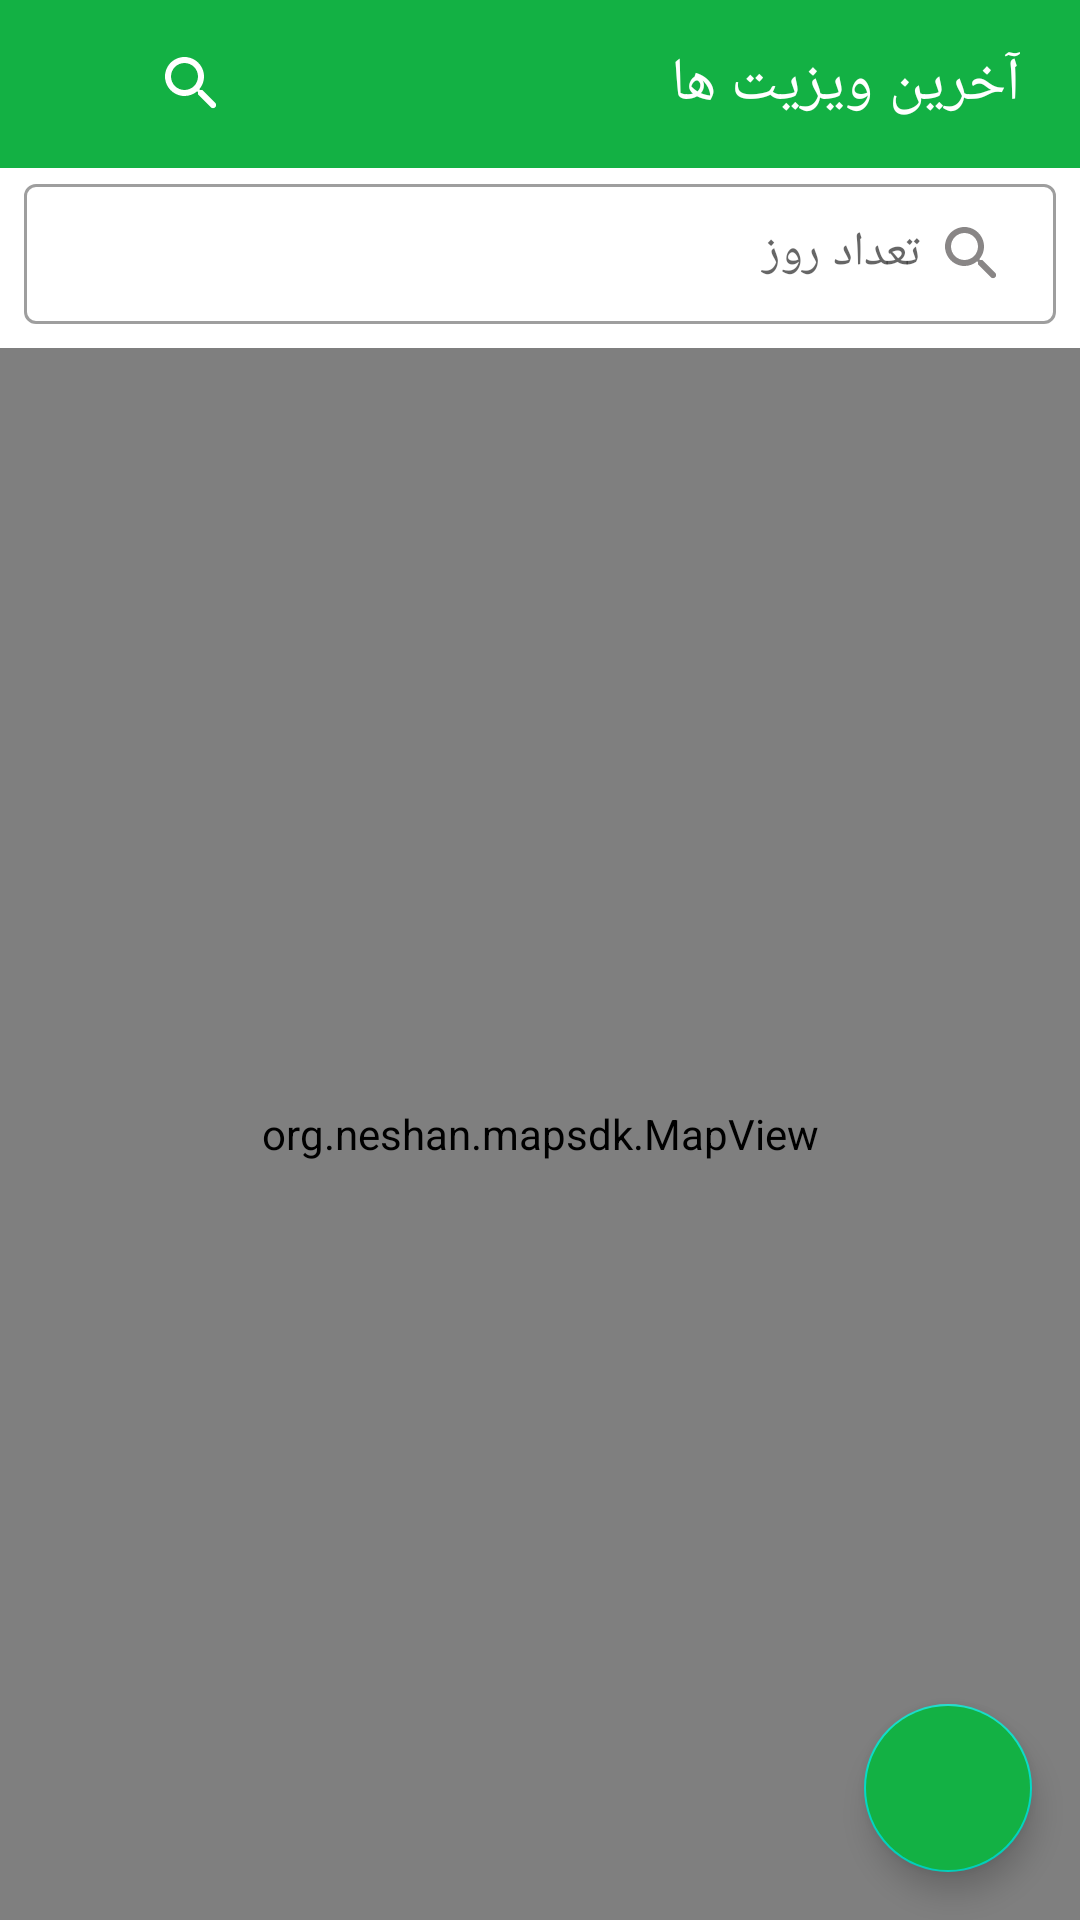

Point at icon controls on the screen. Image size 1080 × 1920, points as (x,y).
search: (190,82)
